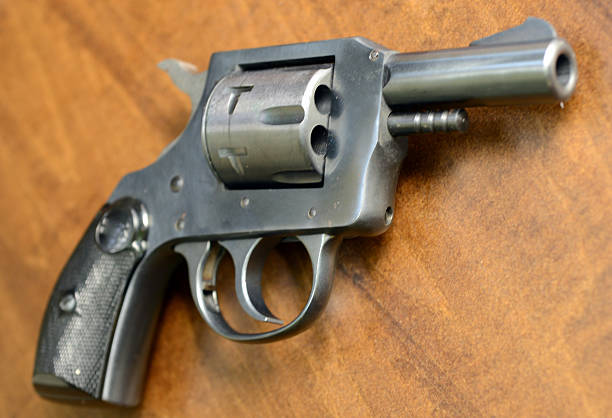gun: (32, 16, 580, 412)
